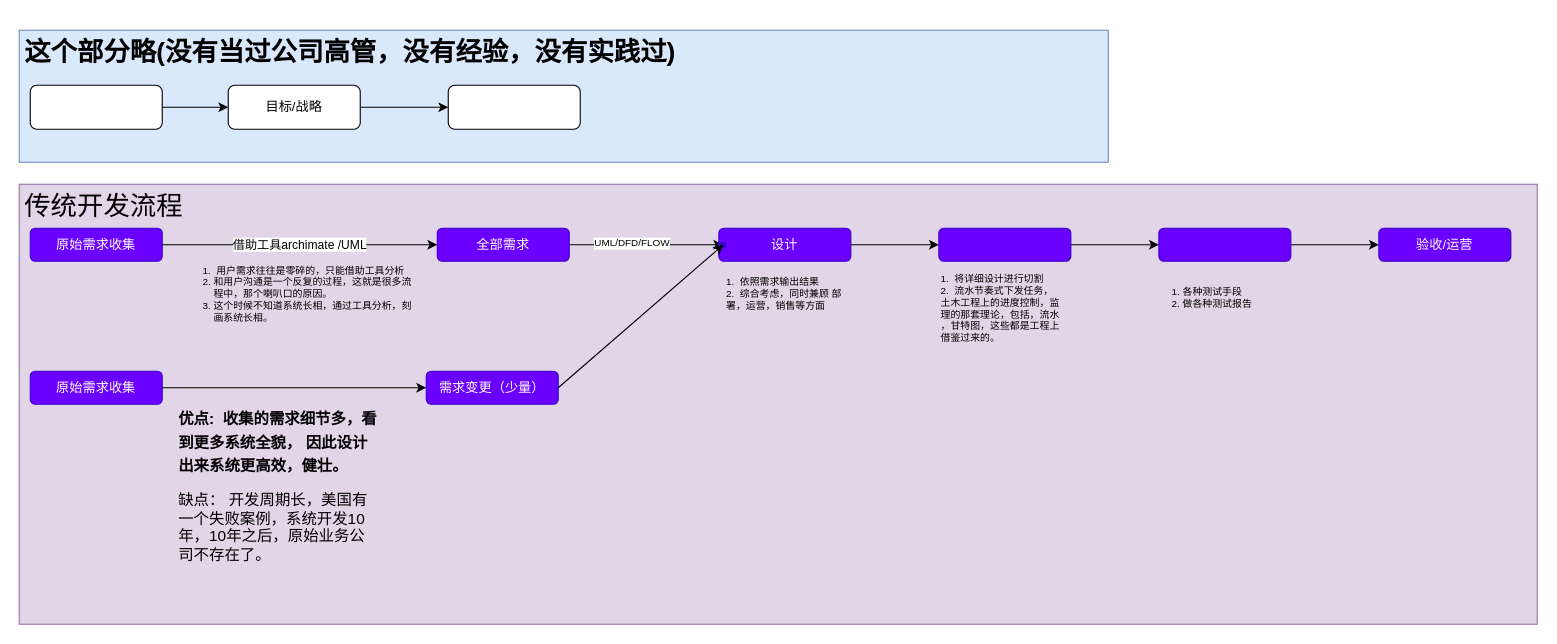
Some shapes in this 1557 by 644 pixel diagram are drawn without their labels. Each missing label, with the centre of its shape:
业务/ 应用/技术: point (513, 106)
公司愿景: point (95, 106)
开发任务: point (1004, 244)
测试: point (1224, 244)
